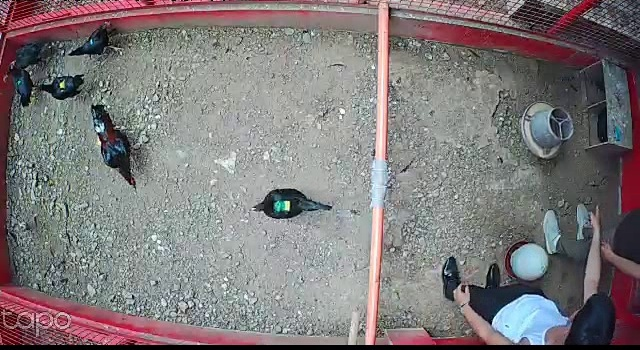Chicken: (246, 180, 337, 222), (65, 20, 126, 63), (2, 37, 51, 90), (36, 70, 87, 106), (8, 61, 38, 110)
Rooster: (88, 102, 142, 192)
Saddle_Color_Blue: (90, 39, 93, 45)
Saddle_Color_Green: (17, 80, 20, 86)
Saddle_Color_Yellow: (59, 78, 65, 87)
Saddle_Color_YellowGreen: (274, 198, 290, 212)
